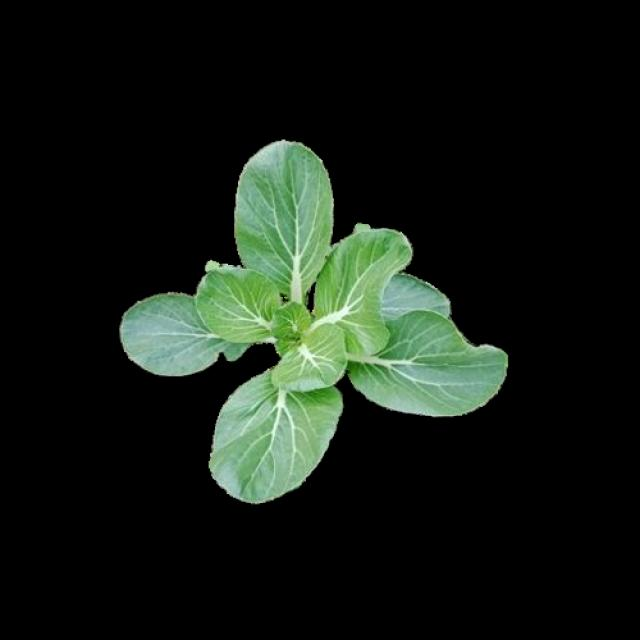healthy: (120, 137, 507, 502)
not-mature: (120, 138, 507, 503)
